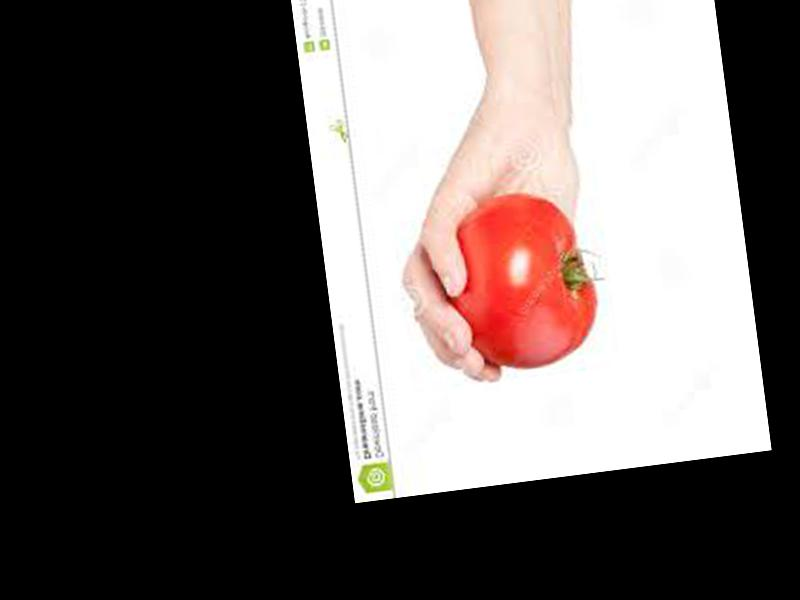Tomato: (436, 182, 606, 377)
